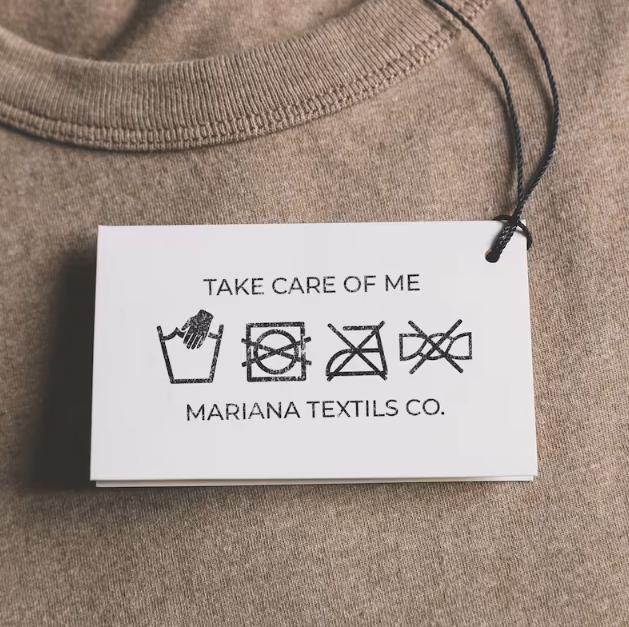ER_hand_wash: (153, 305, 227, 390)
ER_no_iron: (323, 317, 393, 386)
ER_no_tumble_dry: (238, 316, 317, 390)
